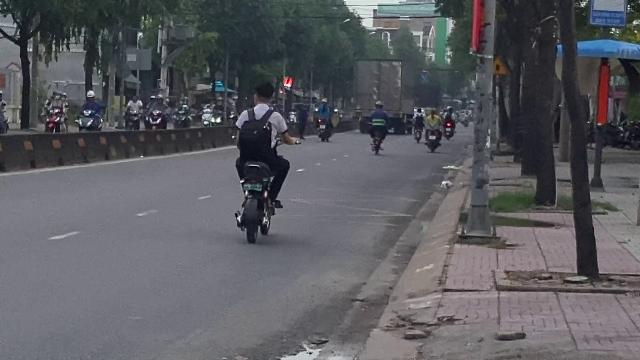motorcyclist: (230, 79, 292, 243)
nohelmet: (250, 81, 274, 105)
